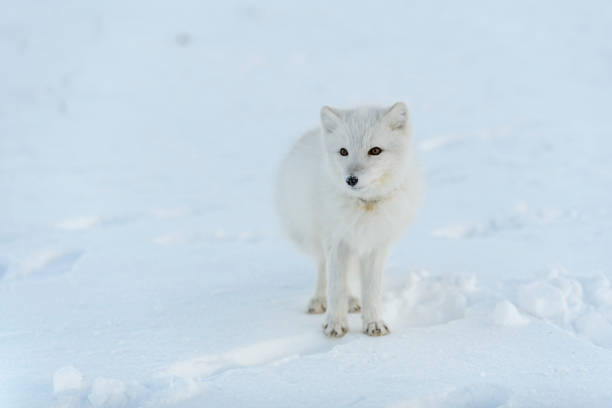arcticfox: (326, 114, 390, 202)
